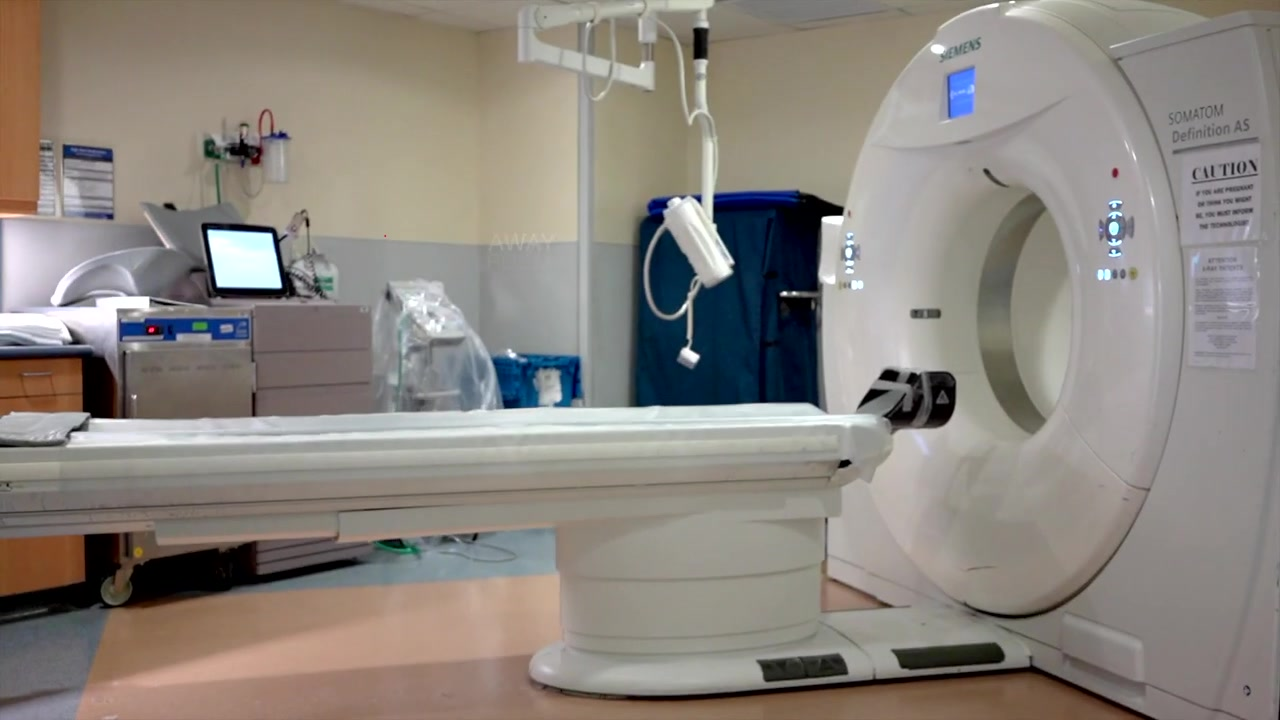bedside_monitor: (198, 220, 302, 298)
drawer: (243, 299, 390, 570)
handle: (22, 369, 57, 379), (130, 384, 139, 420)
table: (1, 340, 90, 614)
waste_bin: (491, 355, 577, 405)
xray_bed: (1, 366, 842, 511)
xray_machine: (812, 18, 1274, 623)
